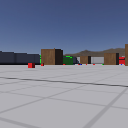blue_cube: (120, 64, 122, 65)
green_basket: (39, 55, 73, 64)
green_cube: (102, 63, 104, 65)
obstacle: (41, 49, 63, 65), (104, 52, 119, 65), (81, 55, 90, 64), (125, 44, 128, 66)
red_basket: (119, 56, 125, 65)
red_cube: (27, 62, 35, 68), (41, 63, 44, 67), (92, 62, 95, 65), (62, 63, 65, 65), (77, 63, 79, 65), (85, 63, 87, 65)
